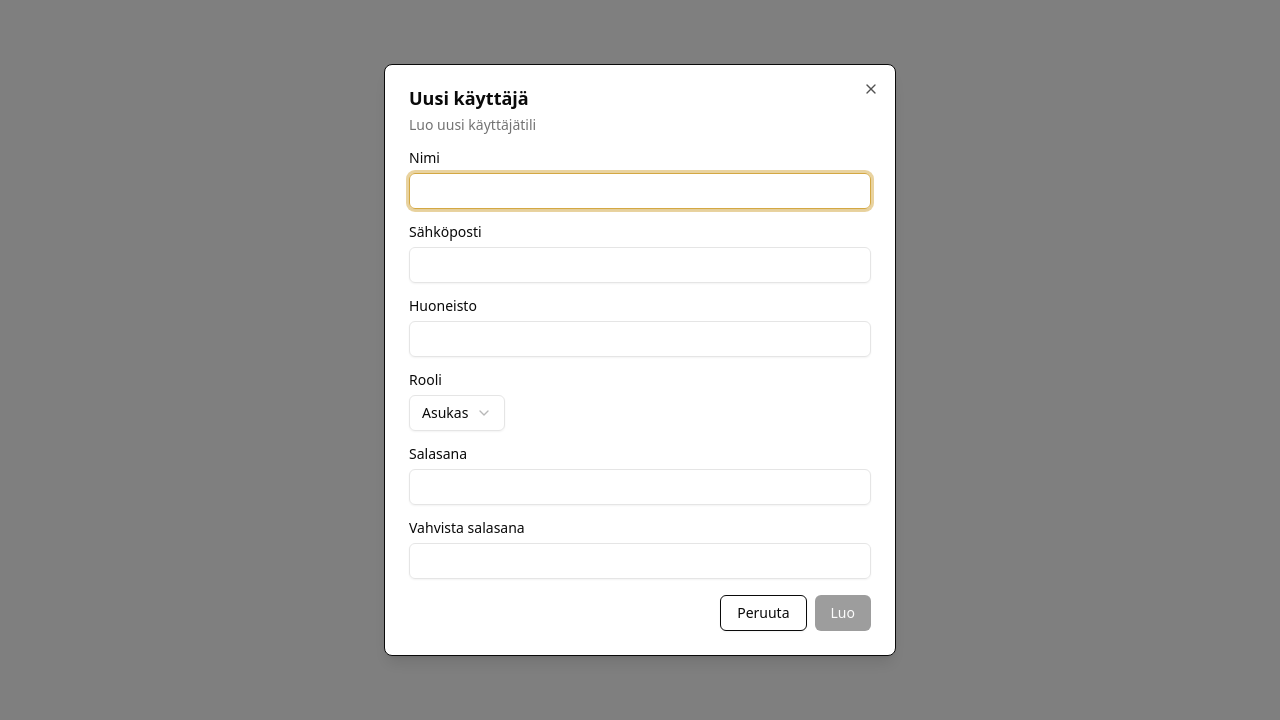
UserFormDialog - create mode › shows password min length error
Click the password field labelled "Salasana".
click(640, 487)  # box x1=409 y1=469 x2=871 y2=505
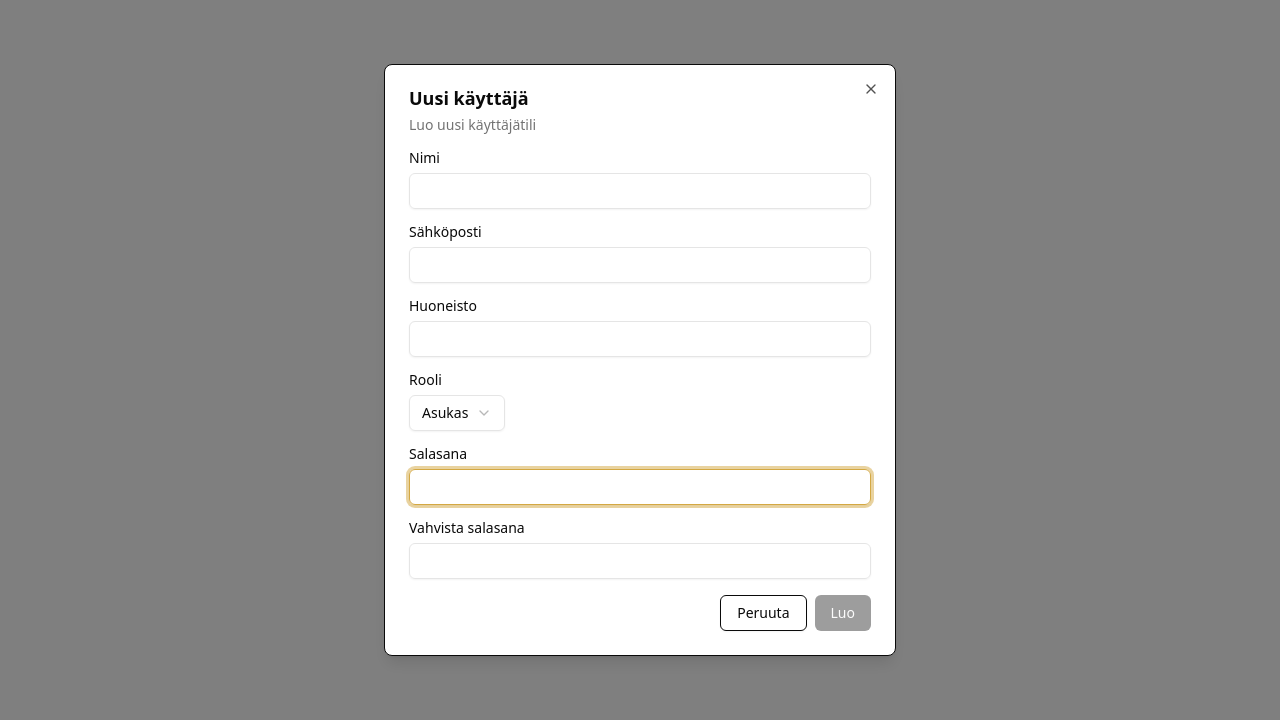
Type keys "short"
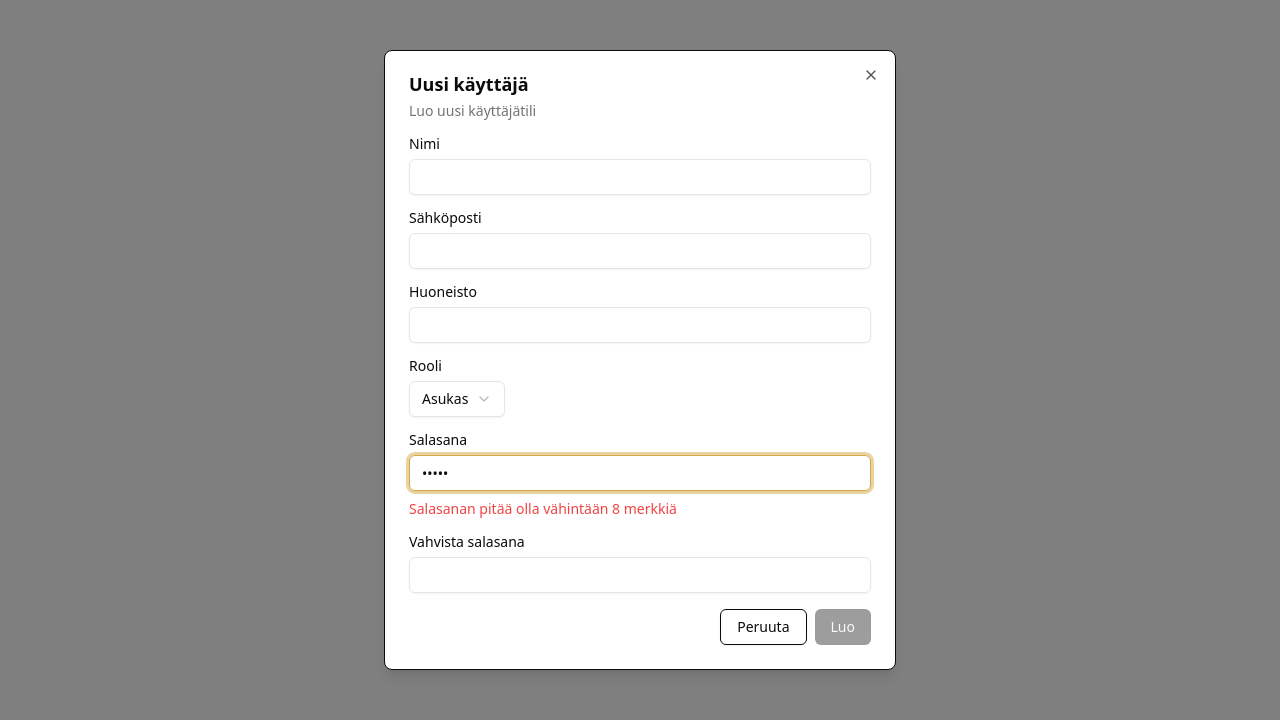
Now the text "Salasanan pitää olla vähintään 8 merkkiä" is shown, box x1=409 y1=499 x2=677 y2=518
